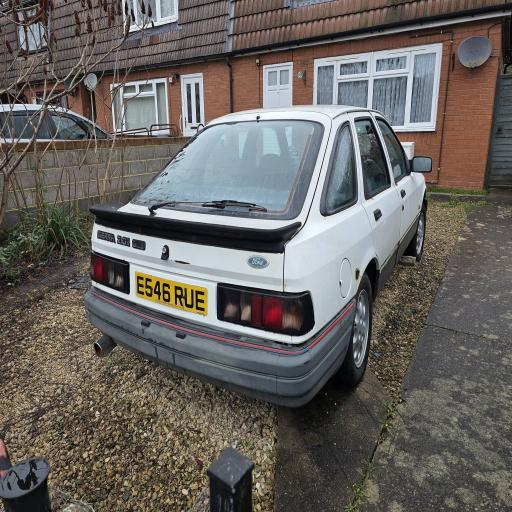numberplates: (135, 272, 207, 315)
